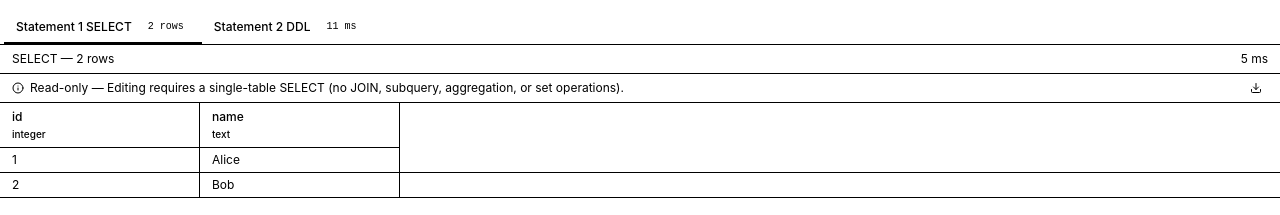
Scenario: QueryResultGrid — multi-statement (sprint 100) › clicking a sibling tab swaps the rendered content
Expected: the text "Alice" is shown, x1=212 y1=152 x2=240 y2=168
Radix Tabs activates on `mouseDown` rather than synthetic click.
Step 1. Press the mouse on the tab "Statement 2 DDL 11 ms" → (288, 28), box x1=202 y1=12 x2=374 y2=44
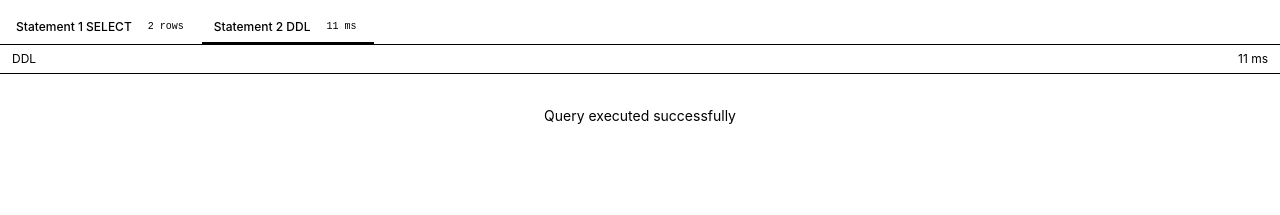
Expected: the text "Query executed successfully" is shown, x1=544 y1=107 x2=736 y2=124
